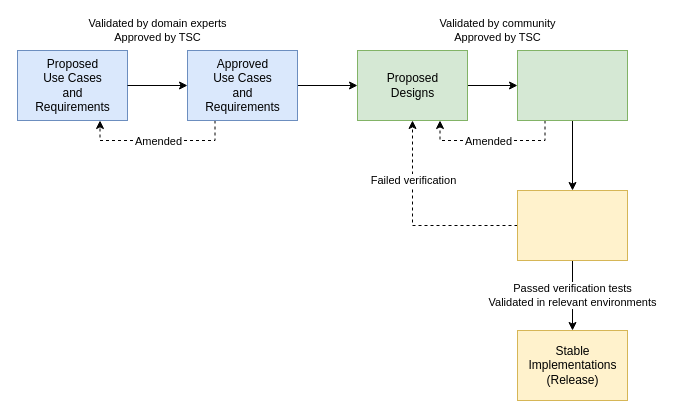
Image size: 674x418. Some labels were removed from this diagram. The shapes that lost their labels are listed below. From the top down, each one's box as (x1, y1, x2, y2) in pixels, then its label:
(516, 50, 628, 120): Approved Designs
(516, 190, 628, 260): Experimental Implementations
